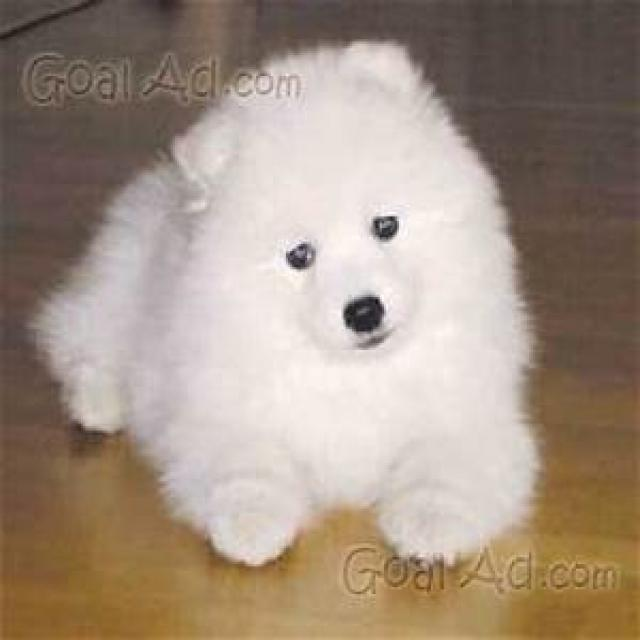animal: (26, 36, 544, 568)
